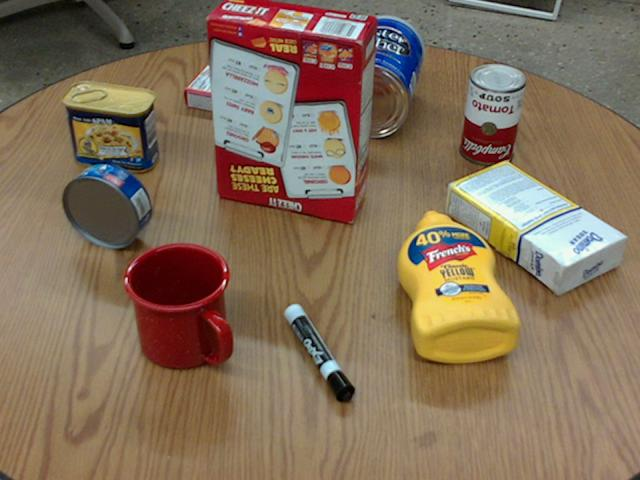cracker_box: (206, 0, 376, 220)
gelatin_box: (183, 65, 265, 117)
large_marker: (282, 303, 353, 401)
master_chef_can: (327, 15, 422, 137)
mug: (122, 242, 233, 369)
mustard_bottle: (396, 210, 519, 362)
potted_meat_can: (60, 82, 157, 172)
sugar_box: (443, 163, 626, 291)
tomato_soup_can: (457, 63, 524, 163)
tuna_fish_can: (62, 162, 150, 248)
